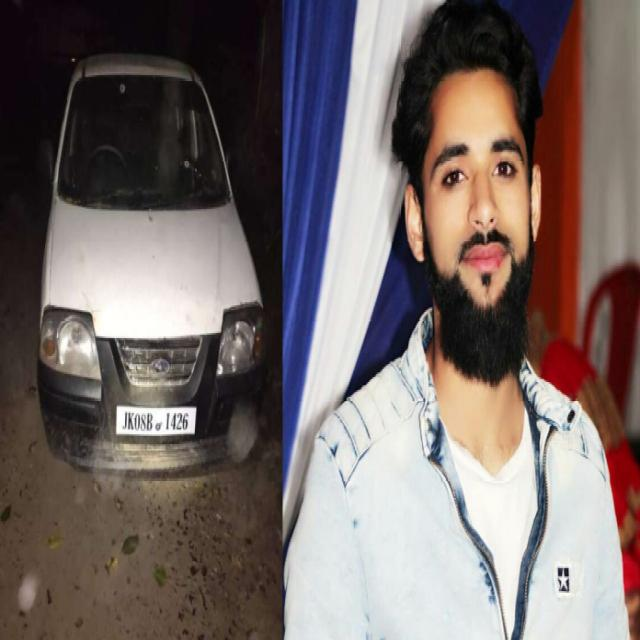plate: (113, 398, 200, 441)
